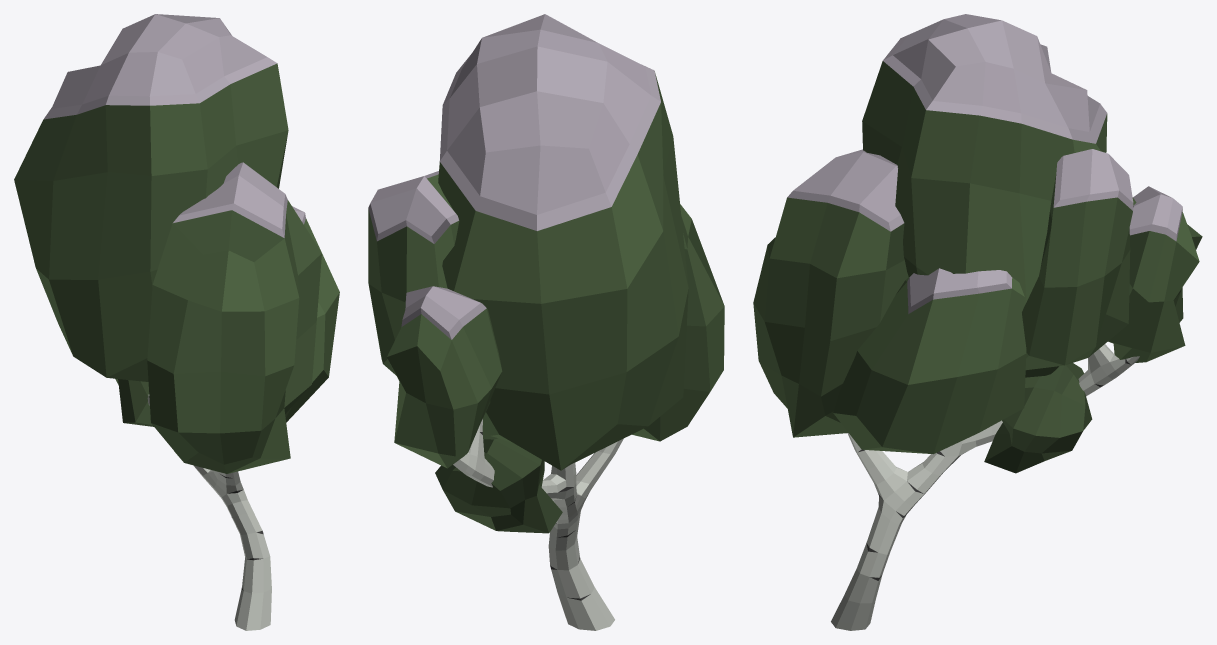
Rendered from BirchTree_Snow_1.glb.
The picture shows the model from 3 angles, left to right: view 1: azimuth 30°, elevation 25°; view 2: azimuth 150°, elevation 25°; view 3: azimuth 270°, elevation 25°; orthographic projection. The views are drawn at different scales.
Visible parts, largest first — view 1: BirchTree_Snow_1_Cube.135; view 2: BirchTree_Snow_1_Cube.135; view 3: BirchTree_Snow_1_Cube.135.
Part boxes in pixels (x1,y1,x2,y2): BirchTree_Snow_1_Cube.135: [14, 14, 339, 630]; BirchTree_Snow_1_Cube.135: [368, 14, 724, 630]; BirchTree_Snow_1_Cube.135: [753, 14, 1202, 630].
Bounding box in the file's own units: 1.7 × 3.59 × 2.48.
